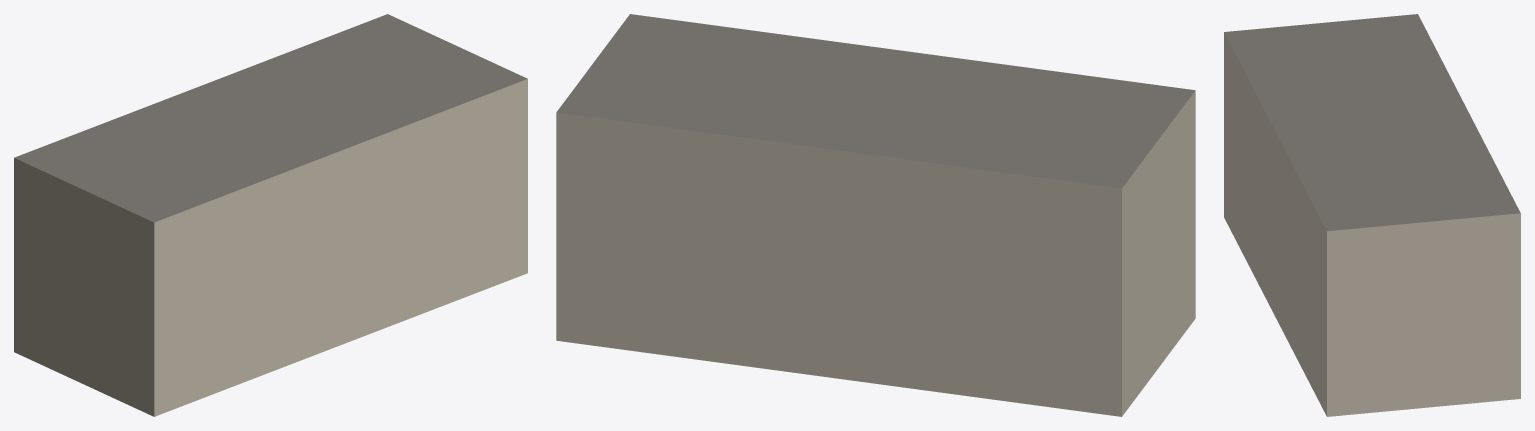
3 renders of one model, left to right at view 1: azimuth 30°, elevation 25°; view 2: azimuth 150°, elevation 25°; view 3: azimuth 270°, elevation 25°, orthographic. The views are drawn at different scales.
Visible parts, largest first — view 1: HP-w1287262669; view 2: HP-w1287262669; view 3: HP-w1287262669.
Boxes of the visible parts, left/top/right/bottom form: HP-w1287262669: left=14, top=14, right=527, bottom=416; HP-w1287262669: left=556, top=14, right=1195, bottom=416; HP-w1287262669: left=1224, top=14, right=1520, bottom=416.
Size of the model in its own units: 45.18 by 18 by 26.07.
